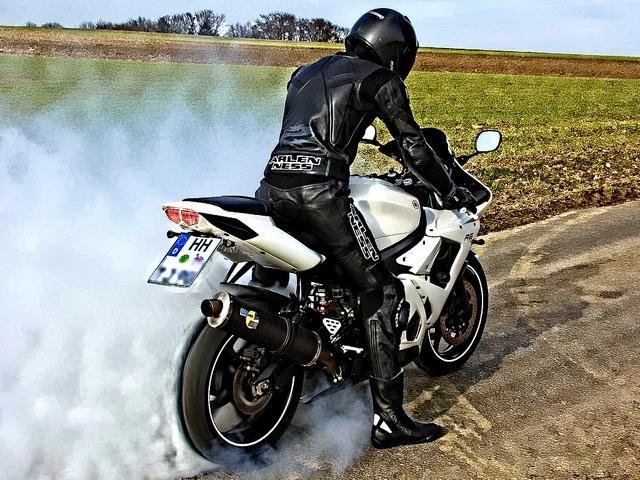motorcycle: (146, 123, 504, 467)
